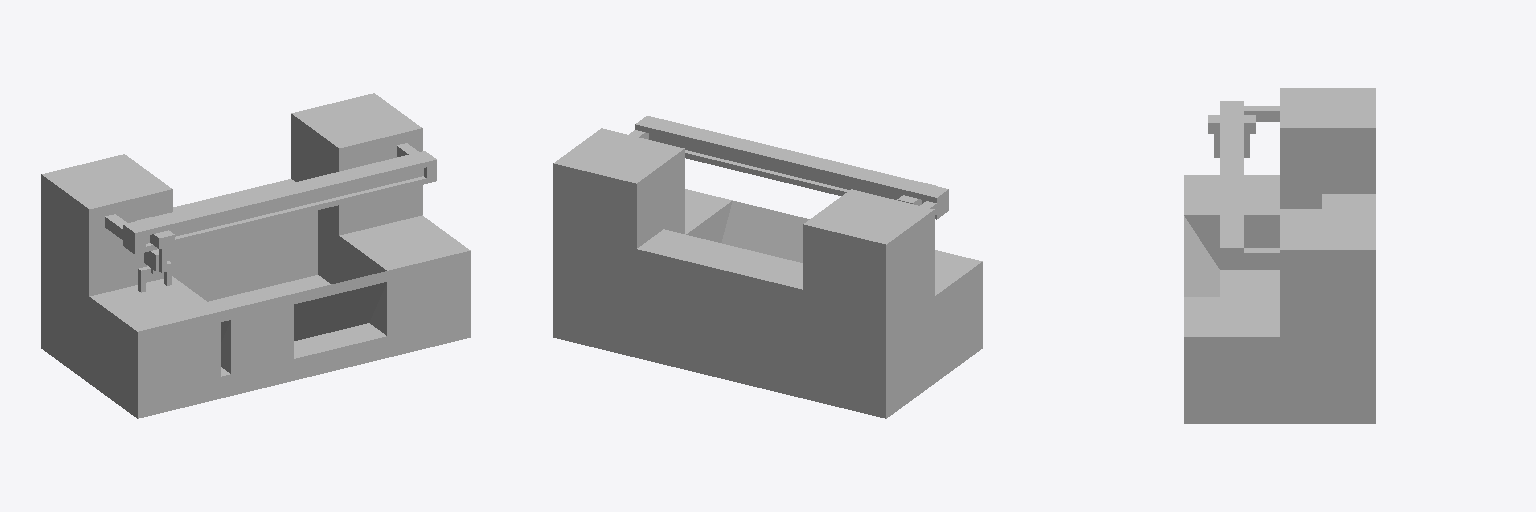
File: chemical_bath.obj
3 renders of one model, left to right at view 1: azimuth 30°, elevation 25°; view 2: azimuth 150°, elevation 25°; view 3: azimuth 270°, elevation 25°, orthographic.
Visible parts, largest first — view 1: cube; view 2: cube; view 3: cube.
Part boxes in pixels (left/top/right/bottom): cube: left=41, top=93, right=470, bottom=418; cube: left=553, top=116, right=982, bottom=418; cube: left=1184, top=88, right=1375, bottom=423.
Size of the model in its own units: 4 by 2 by 2.